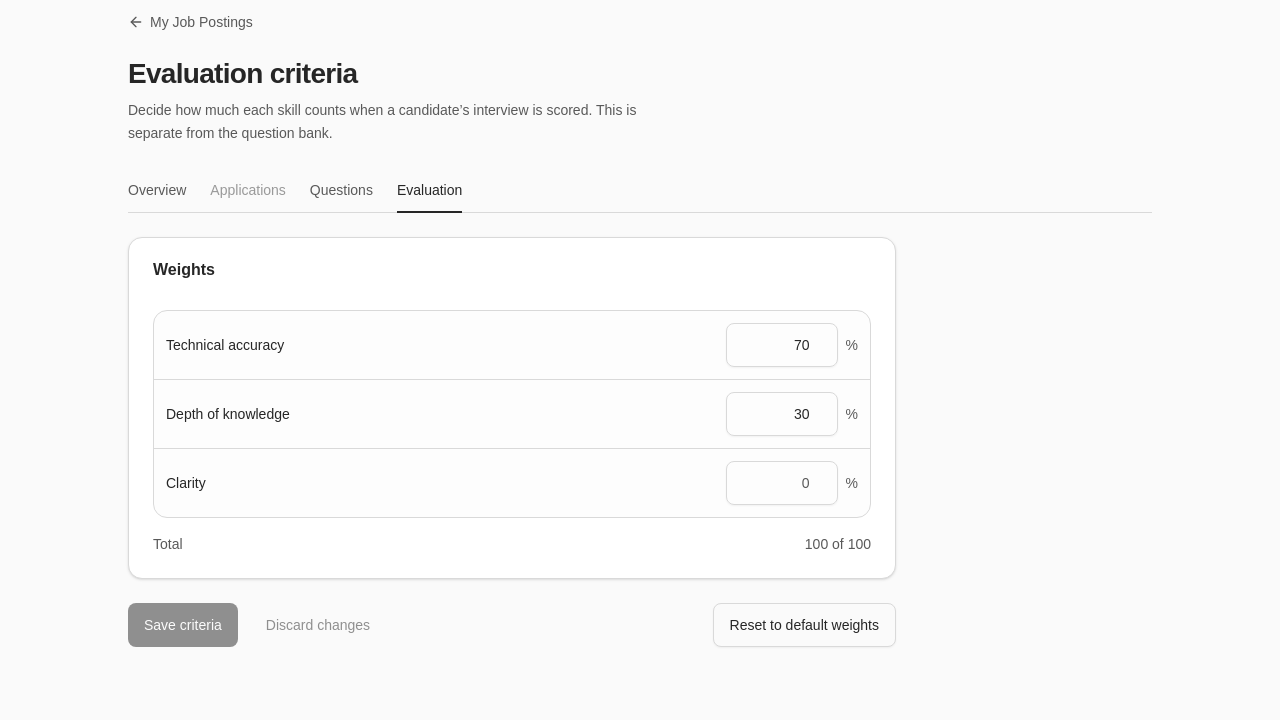
EvaluationCriteria › refreshes into the read-only view when the posting got approved meanwhile
Expected: the number field labelled "Clarity" is shown, [726,460,838,504]
Replace the text in the number field labelled "Technical accuracy" with "50" at (782, 344), box [726,322,838,366]
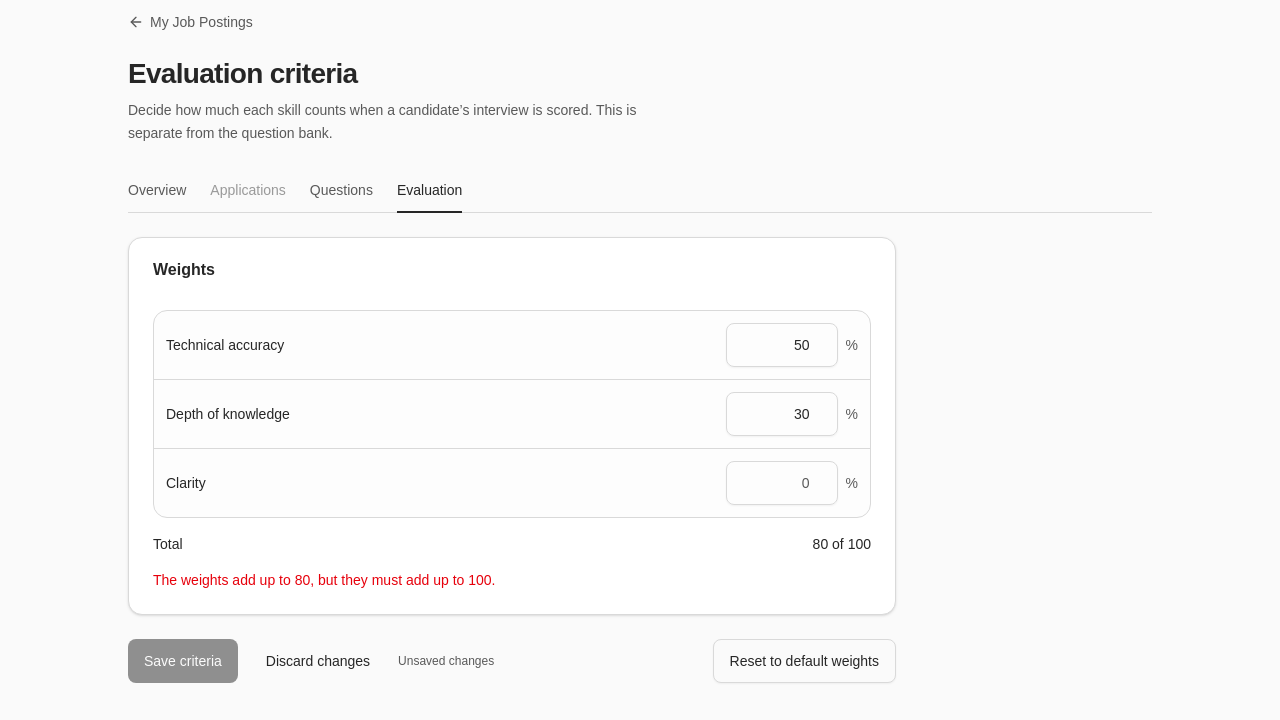
Type "20" into the number field labelled "Clarity" at (782, 482), box [726,460,838,504]
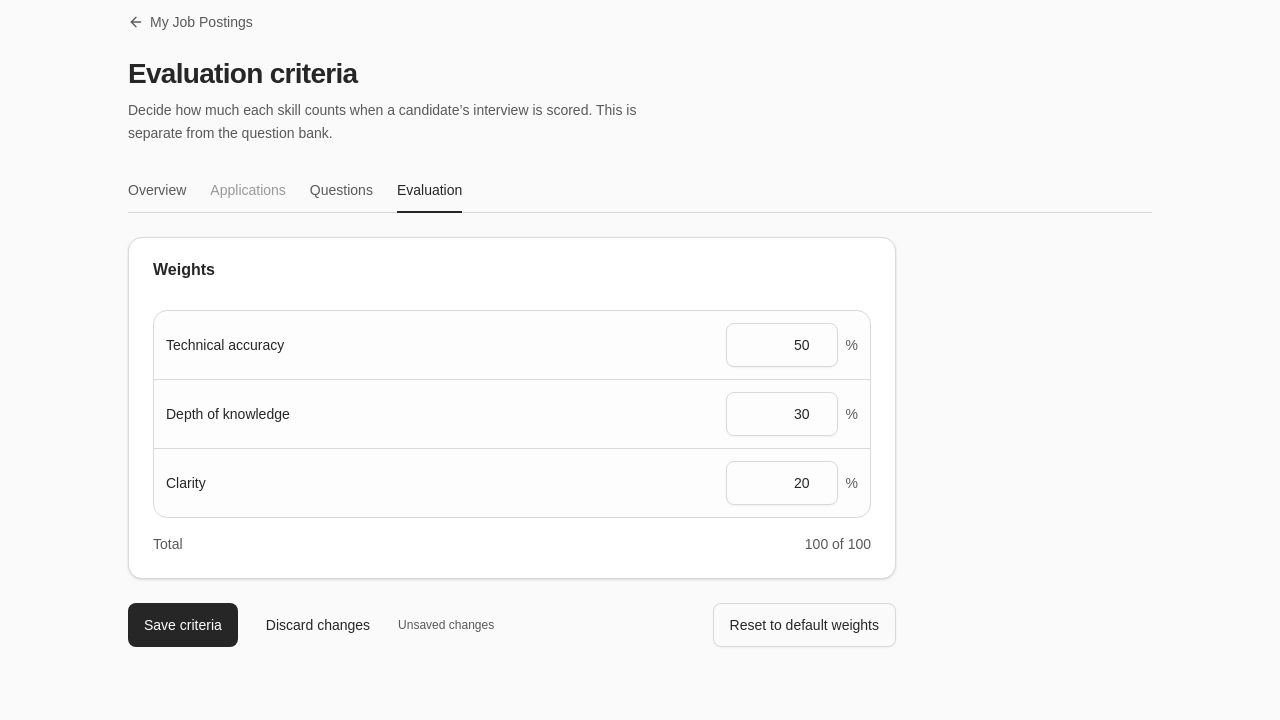
Result: the button "Save criteria" is enabled
Click the button "Save criteria" at (183, 624), box [128,602,238,646]
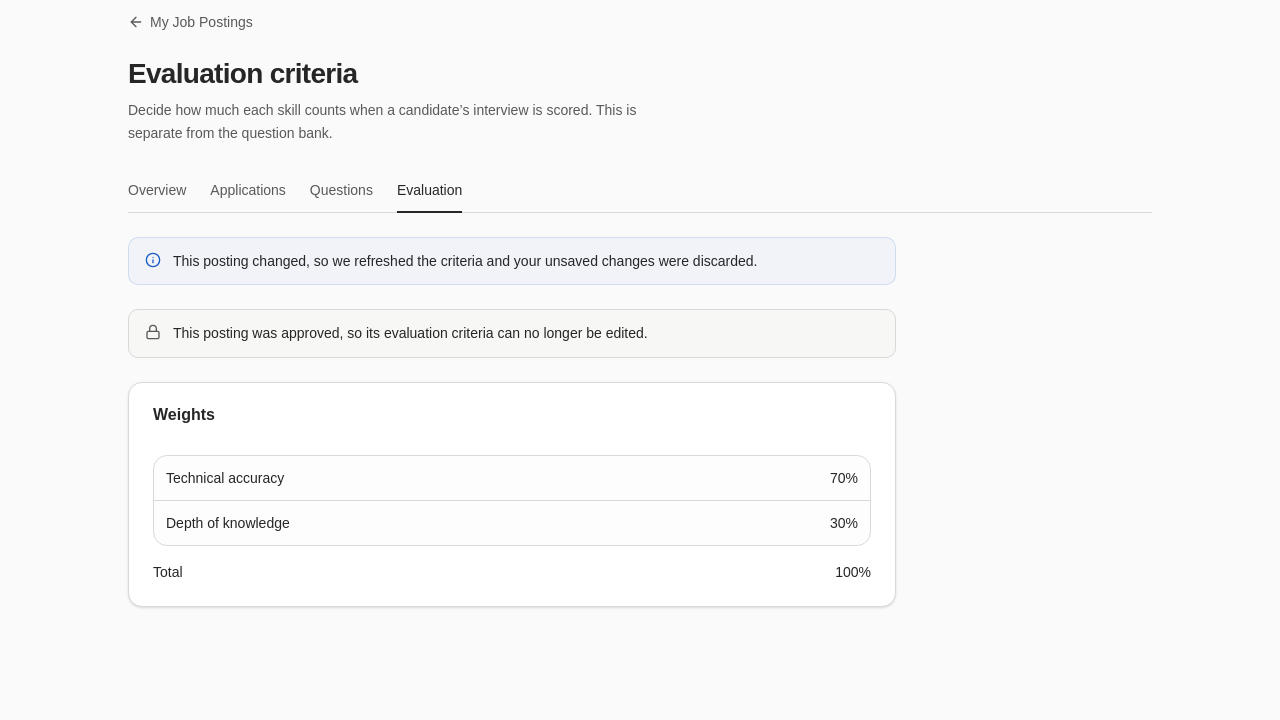
Result: the text "This posting changed, so we refreshed the criteria and your unsaved changes were discarded." is shown at [173,252,758,268]
Result: the text "so its evaluation criteria can no longer be edited" is shown at [173,325,648,341]
Result: the label labelled "Clarity" is gone
